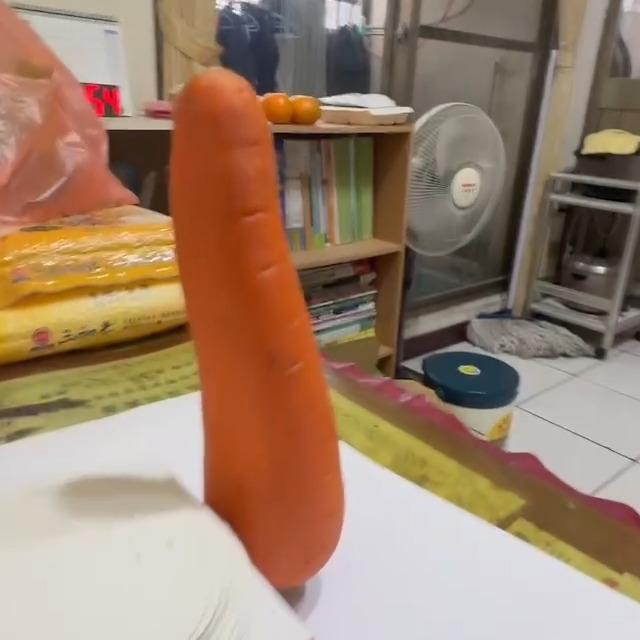carrot: (174, 65, 348, 599)
